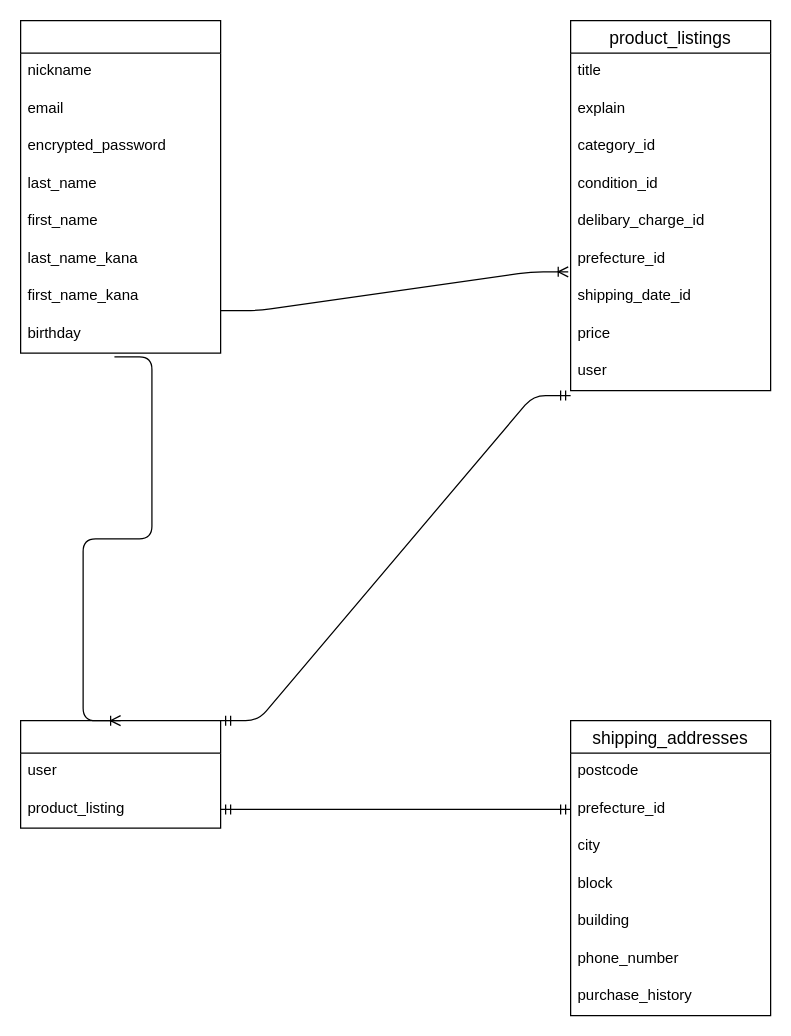
Some shapes in this 791 by 1036 pixel diagram are drawn without their labels. The shapes that lost their labels are listed below. From the top down, each one's box as (x1, y1, x2, y2) in pixels, then its label:
(19, 19, 221, 353): users
(19, 719, 221, 828): purchase_histories
